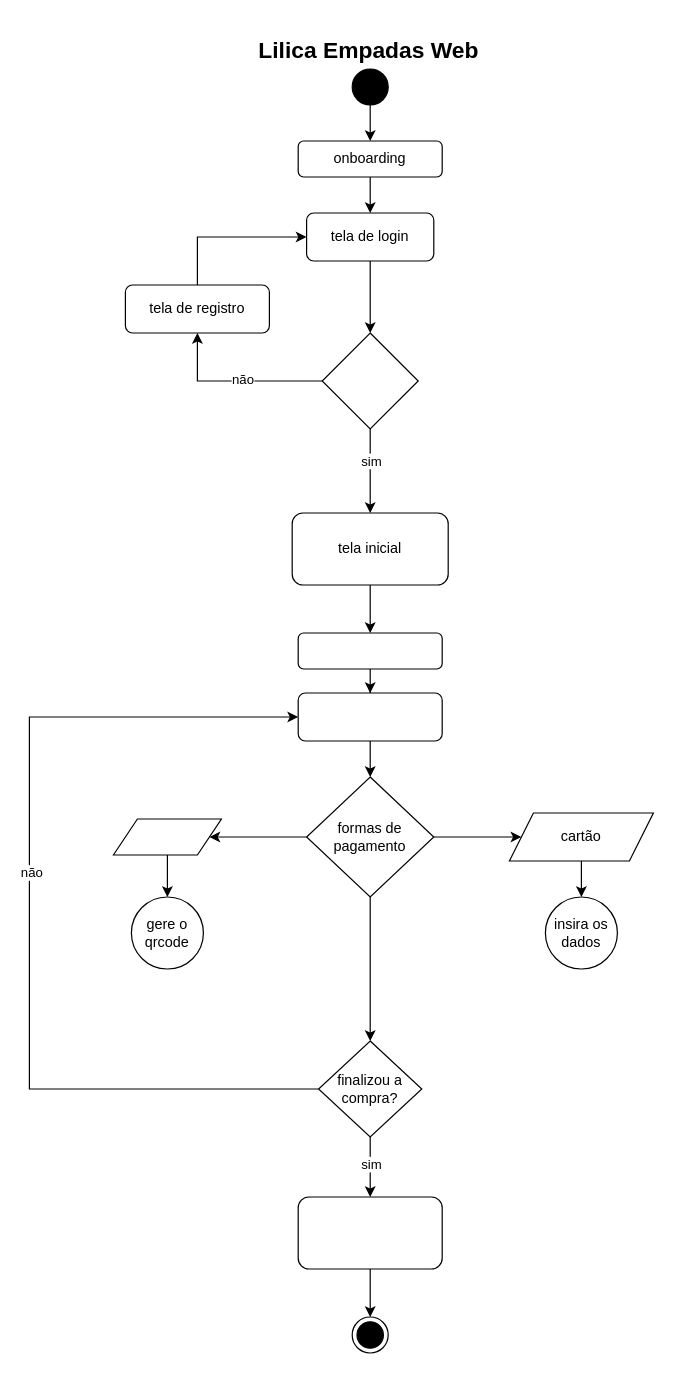
Image size: 674x1374. Some labels were removed from this diagram. The centre of each missing label's shape, as x and y in pixels:
"carrinho" belongs at point 369,716.
"escolha de empada" belongs at point 369,650.
"pagina inicial" belongs at point 369,1232.
"pix" belongs at point 166,836.
"tem conta?" belongs at point 369,380.
